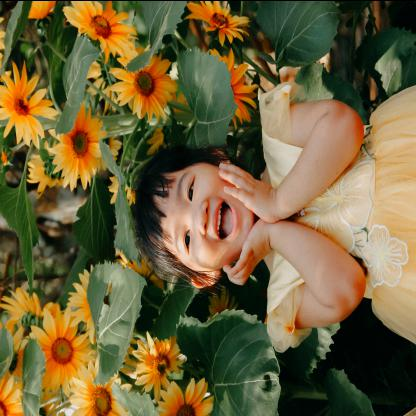Eye: (183, 174, 197, 206), (182, 225, 194, 254)
Mouth: (210, 197, 238, 243)
Nose: (190, 199, 212, 233)
